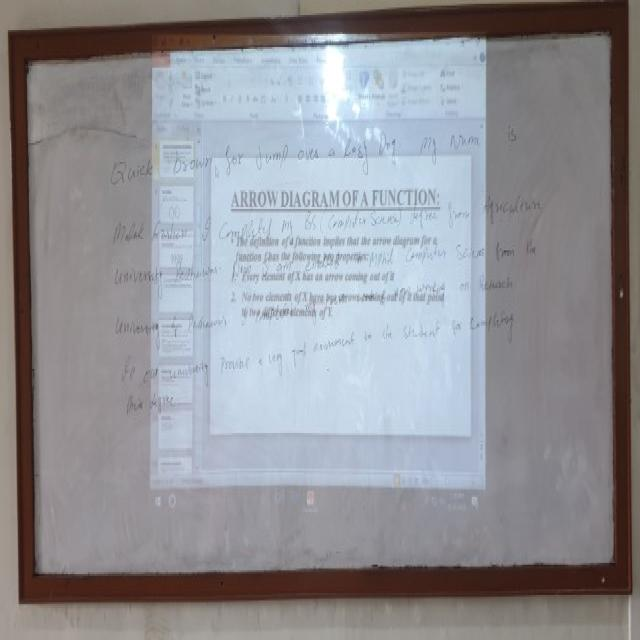Slide: (151, 39, 490, 532)
White-board: (19, 12, 627, 591)
